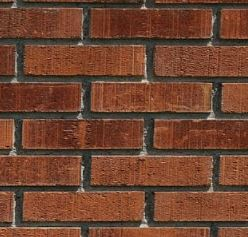brick: (88, 5, 213, 40), (90, 155, 213, 190), (24, 43, 146, 78), (20, 118, 145, 151), (89, 80, 213, 113), (21, 193, 146, 224), (149, 45, 248, 79), (152, 117, 248, 152), (150, 191, 248, 225), (1, 152, 84, 188), (1, 7, 85, 41), (1, 80, 83, 114), (218, 154, 247, 187), (220, 80, 248, 114), (219, 8, 248, 39)
